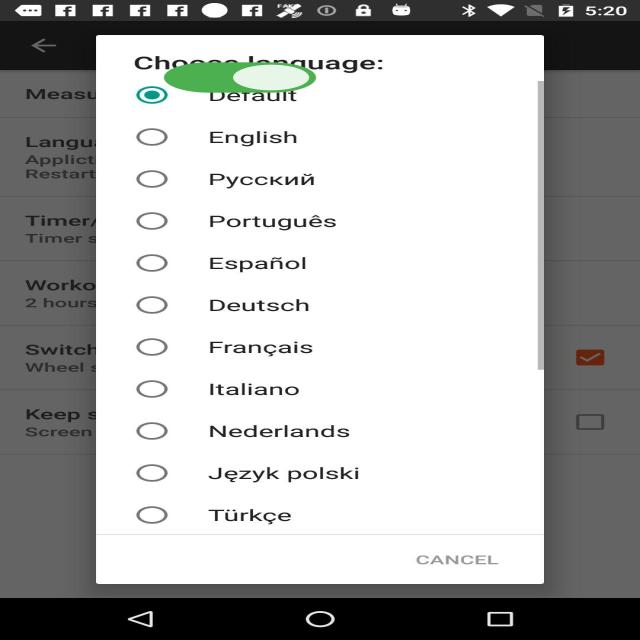social proof: (157, 50, 323, 106)
